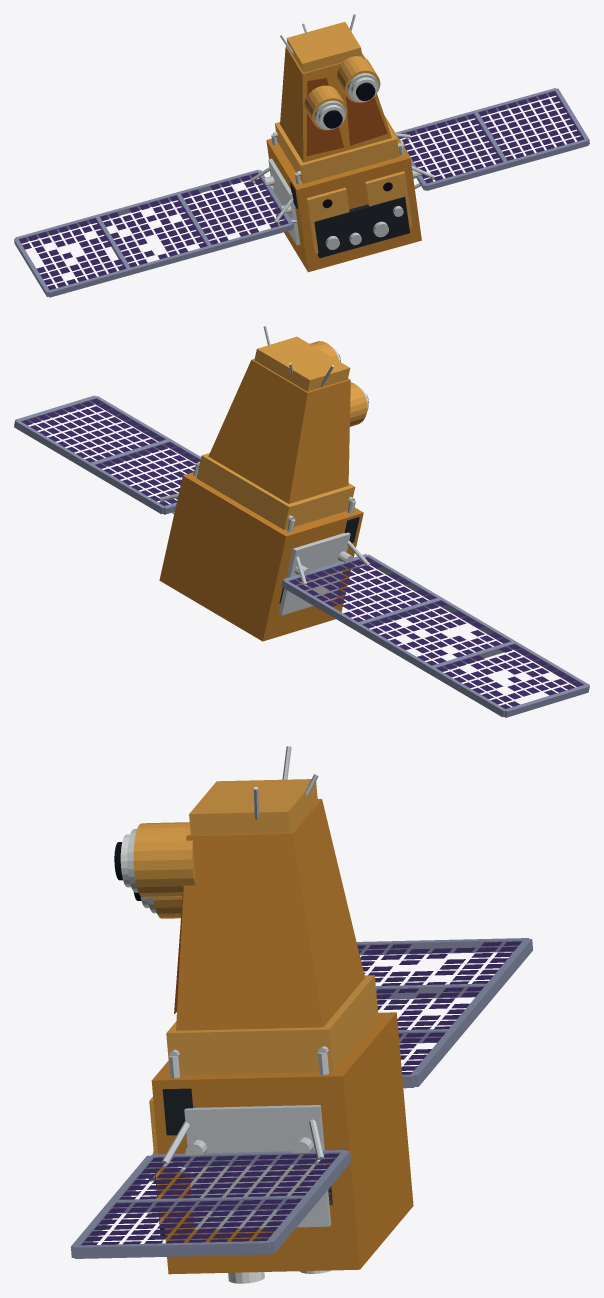
File: CARTOSAT-1.glb
The picture shows the model from 3 angles, top to bottom: view 1: azimuth 30°, elevation 25°; view 2: azimuth 150°, elevation 25°; view 3: azimuth 270°, elevation 25°; orthographic projection. The views are drawn at different scales.
Visible parts, largest first — view 1: CARTOSAT_1_CONSOLIDATED_SOLAR_CELLS, CARTOSAT_1_CONSOLIDATED_SOLAR_FRAMES, CARTOSAT_1_MAIN_GOLD_BUS, CARTOSAT_1_TALL_STEREO_CAMERA_HOUSING, CARTOSAT_1_LOWER_EQUIPMENT_DECK, CARTOSAT_1_STEREO_CAMERA_SYSTEM, CARTOSAT_1_STEREO_PAYLOAD_BASE, CARTOSAT_1_PAYLOAD_THERMAL_FACETS, CARTOSAT_1_TOP_CAP, CARTOSAT_1_FRONT_MLI_DETAILS, CARTOSAT_1_SIDE_RADIATOR_PANELS, CARTOSAT_1_FRONT_FITTINGS (+1 smaller); view 2: CARTOSAT_1_MAIN_GOLD_BUS, CARTOSAT_1_CONSOLIDATED_SOLAR_CELLS, CARTOSAT_1_TALL_STEREO_CAMERA_HOUSING, CARTOSAT_1_CONSOLIDATED_SOLAR_FRAMES, CARTOSAT_1_STEREO_PAYLOAD_BASE, CARTOSAT_1_TOP_CAP, CARTOSAT_1_SIDE_RADIATOR_PANELS, CARTOSAT_1_STEREO_CAMERA_SYSTEM; view 3: CARTOSAT_1_TALL_STEREO_CAMERA_HOUSING, CARTOSAT_1_MAIN_GOLD_BUS, CARTOSAT_1_CONSOLIDATED_SOLAR_CELLS, CARTOSAT_1_CONSOLIDATED_SOLAR_FRAMES, CARTOSAT_1_STEREO_PAYLOAD_BASE, CARTOSAT_1_SIDE_RADIATOR_PANELS, CARTOSAT_1_STEREO_CAMERA_SYSTEM, CARTOSAT_1_TOP_CAP, CARTOSAT_1_EXTERNAL_EQUIPMENT, CARTOSAT_1_SOLAR_TRUSS_SYSTEM.
Part boxes in pixels (bbox=[...]): CARTOSAT_1_CONSOLIDATED_SOLAR_CELLS: bbox=[19, 91, 584, 289]; CARTOSAT_1_CONSOLIDATED_SOLAR_FRAMES: bbox=[14, 88, 589, 297]; CARTOSAT_1_MAIN_GOLD_BUS: bbox=[266, 115, 421, 272]; CARTOSAT_1_TALL_STEREO_CAMERA_HOUSING: bbox=[280, 46, 391, 162]; CARTOSAT_1_LOWER_EQUIPMENT_DECK: bbox=[314, 196, 409, 258]; CARTOSAT_1_STEREO_CAMERA_SYSTEM: bbox=[304, 56, 380, 130]; CARTOSAT_1_STEREO_PAYLOAD_BASE: bbox=[275, 121, 399, 183]; CARTOSAT_1_PAYLOAD_THERMAL_FACETS: bbox=[306, 78, 387, 156]; CARTOSAT_1_TOP_CAP: bbox=[286, 22, 362, 72]; CARTOSAT_1_FRONT_MLI_DETAILS: bbox=[306, 171, 412, 254]; CARTOSAT_1_SIDE_RADIATOR_PANELS: bbox=[268, 158, 300, 245]; CARTOSAT_1_FRONT_FITTINGS: bbox=[325, 206, 403, 249]; CARTOSAT_1_MAIN_GOLD_BUS: bbox=[159, 472, 363, 641]; CARTOSAT_1_CONSOLIDATED_SOLAR_CELLS: bbox=[21, 399, 583, 708]; CARTOSAT_1_TALL_STEREO_CAMERA_HOUSING: bbox=[208, 359, 350, 503]; CARTOSAT_1_CONSOLIDATED_SOLAR_FRAMES: bbox=[14, 395, 589, 717]; CARTOSAT_1_STEREO_PAYLOAD_BASE: bbox=[196, 453, 355, 529]; CARTOSAT_1_TOP_CAP: bbox=[254, 336, 350, 391]; CARTOSAT_1_SIDE_RADIATOR_PANELS: bbox=[278, 532, 350, 615]; CARTOSAT_1_STEREO_CAMERA_SYSTEM: bbox=[310, 341, 368, 426]; CARTOSAT_1_TALL_STEREO_CAMERA_HOUSING: bbox=[176, 799, 364, 1030]; CARTOSAT_1_MAIN_GOLD_BUS: bbox=[151, 1012, 413, 1274]; CARTOSAT_1_CONSOLIDATED_SOLAR_CELLS: bbox=[81, 941, 521, 1245]; CARTOSAT_1_CONSOLIDATED_SOLAR_FRAMES: bbox=[71, 938, 532, 1258]; CARTOSAT_1_STEREO_PAYLOAD_BASE: bbox=[166, 975, 378, 1075]; CARTOSAT_1_SIDE_RADIATOR_PANELS: bbox=[184, 1105, 331, 1229]; CARTOSAT_1_STEREO_CAMERA_SYSTEM: bbox=[114, 822, 195, 918]; CARTOSAT_1_TOP_CAP: bbox=[189, 779, 317, 835]; CARTOSAT_1_EXTERNAL_EQUIPMENT: bbox=[162, 1088, 332, 1205]; CARTOSAT_1_SOLAR_TRUSS_SYSTEM: bbox=[162, 1119, 324, 1173].
Bounding box in the file's own units: 6.31 × 2.93 × 2.53.
